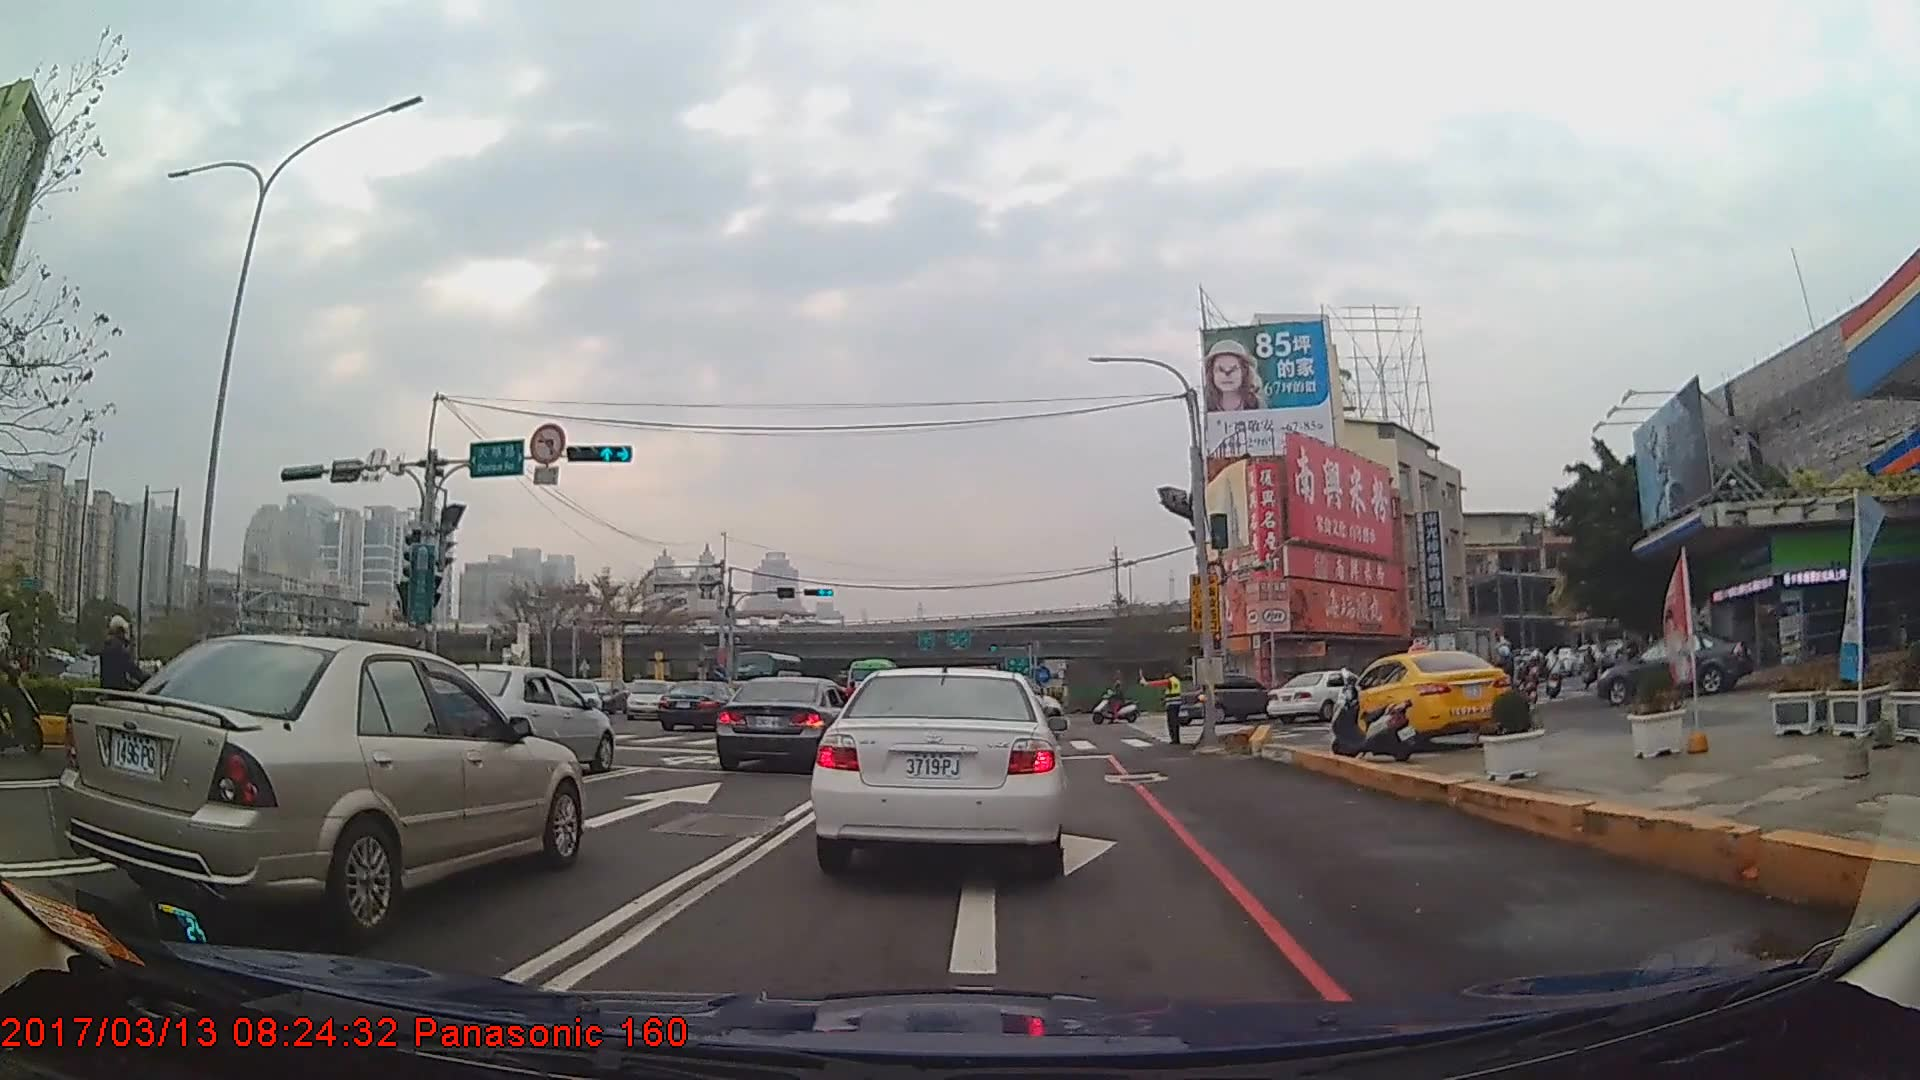pedestrian: (1134, 666, 1185, 744)
rider: (81, 617, 172, 774), (1, 603, 47, 762), (1487, 646, 1529, 729), (1094, 679, 1139, 725), (1518, 646, 1545, 714)
vehicle: (67, 629, 585, 932), (813, 660, 1066, 872), (420, 662, 614, 772), (1330, 645, 1515, 749), (714, 671, 858, 772), (1597, 627, 1754, 706), (1407, 626, 1518, 691), (1165, 670, 1281, 725), (1267, 669, 1372, 723), (660, 677, 752, 731), (624, 676, 668, 720)
